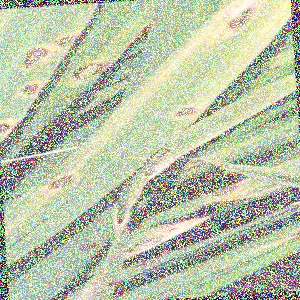Bacterial_Leaf_Blight: (198, 0, 275, 37), (59, 54, 110, 94), (15, 39, 56, 75), (10, 73, 48, 106), (122, 231, 173, 255), (164, 97, 207, 125), (42, 168, 82, 196), (47, 25, 83, 54), (206, 179, 243, 203), (68, 236, 106, 255), (0, 111, 20, 146), (149, 141, 176, 161), (137, 163, 162, 182), (84, 178, 97, 189), (119, 116, 133, 126), (124, 181, 137, 190), (28, 186, 39, 195), (45, 197, 56, 206), (198, 70, 207, 80)
